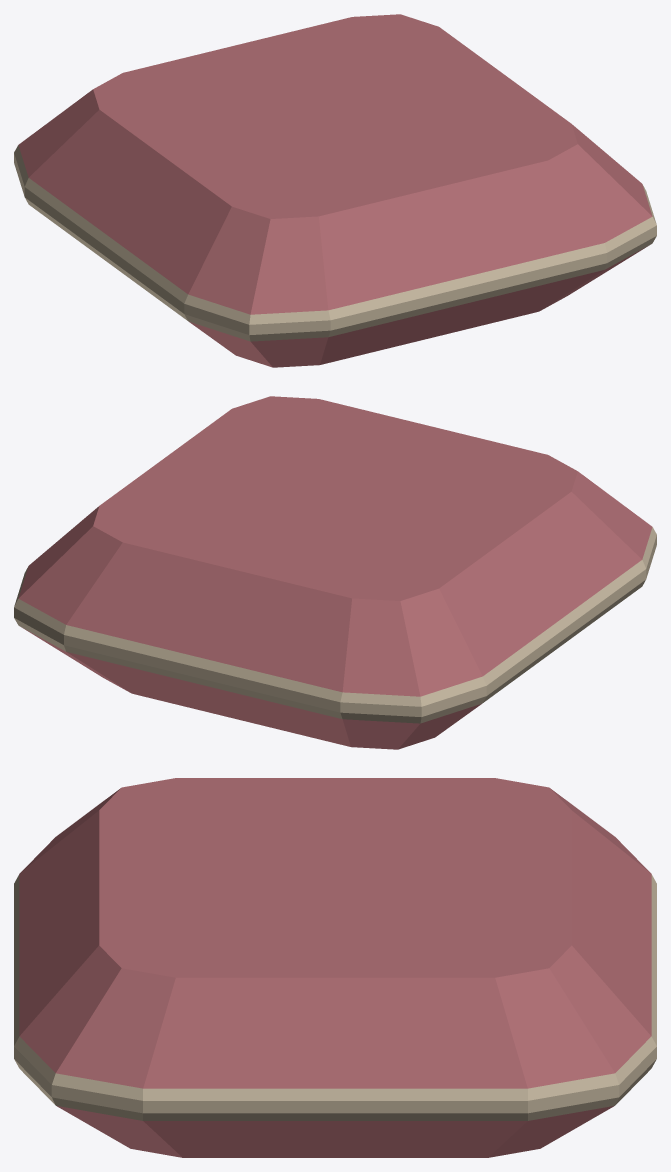
Rendered from FN_Cushion_Scatter.obj.
3 views of the same model, one above another, from view 1: azimuth 30°, elevation 25°; view 2: azimuth 150°, elevation 25°; view 3: azimuth 270°, elevation 25° (orthographic). The views are drawn at different scales.
Parts seen in each view (by area): view 1: FN_Cushion_Scatter; view 2: FN_Cushion_Scatter; view 3: FN_Cushion_Scatter.
Part boxes in pixels (x1=…): FN_Cushion_Scatter: x1=14, y1=14, x2=656, y2=367; FN_Cushion_Scatter: x1=14, y1=396, x2=656, y2=749; FN_Cushion_Scatter: x1=14, y1=778, x2=656, y2=1157.
Size of the model in its own units: 0.468 by 0.148 by 0.468.
Materials: 1 (1 with a texture image).
